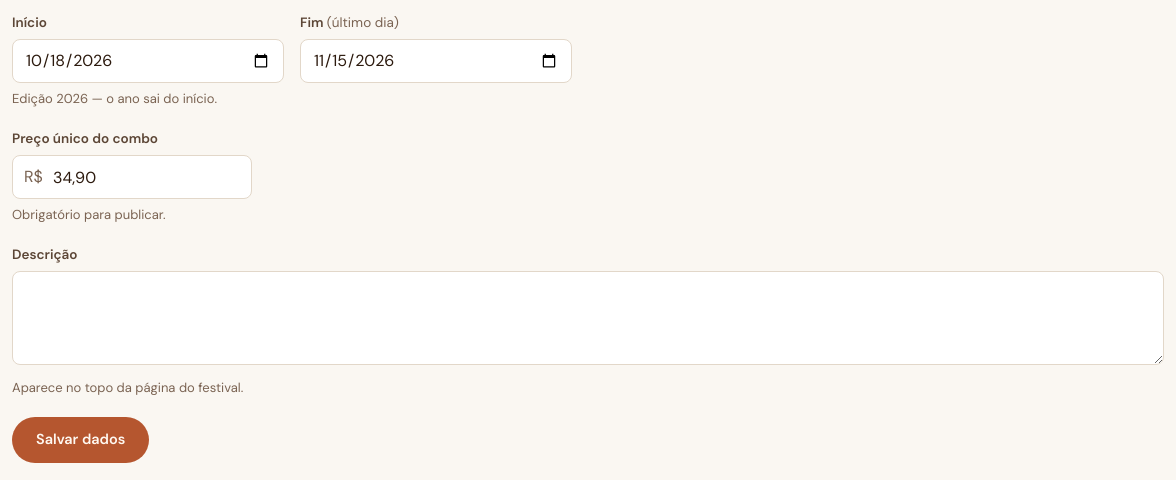
Test case: EdicaoForm — edição › salvar manda os campos e confirma que já está no site
Click the button "Salvar dados".
click(81, 440)  # box left=12, top=417, right=149, bottom=463
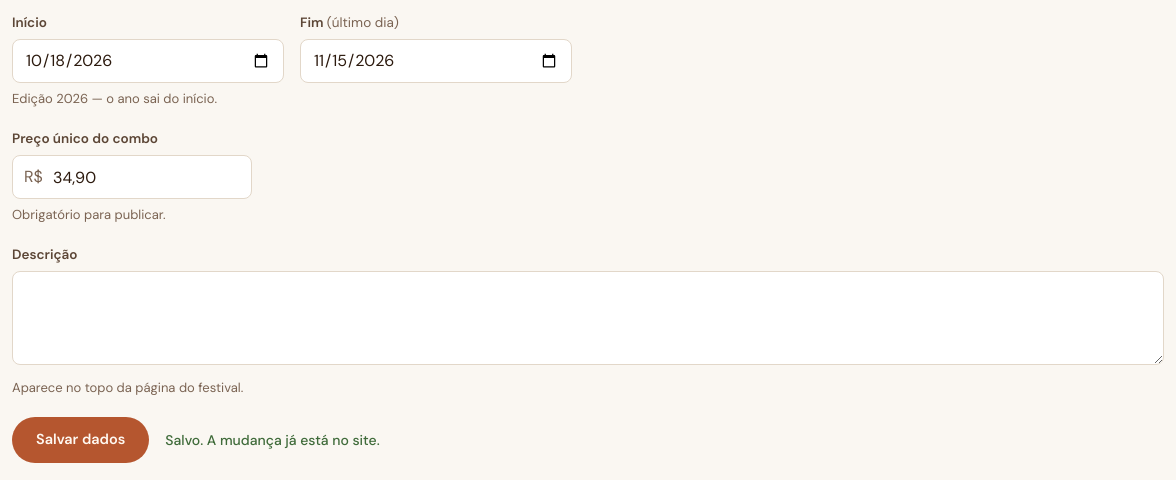
Check: the message reads "Salvo. A mudança já está no site.", box left=165, top=431, right=380, bottom=449
